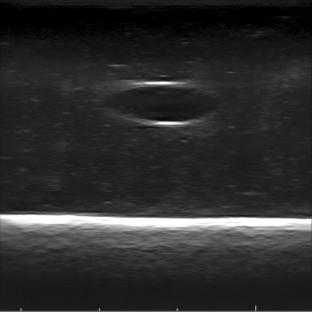vessel: (105, 81, 219, 128)
